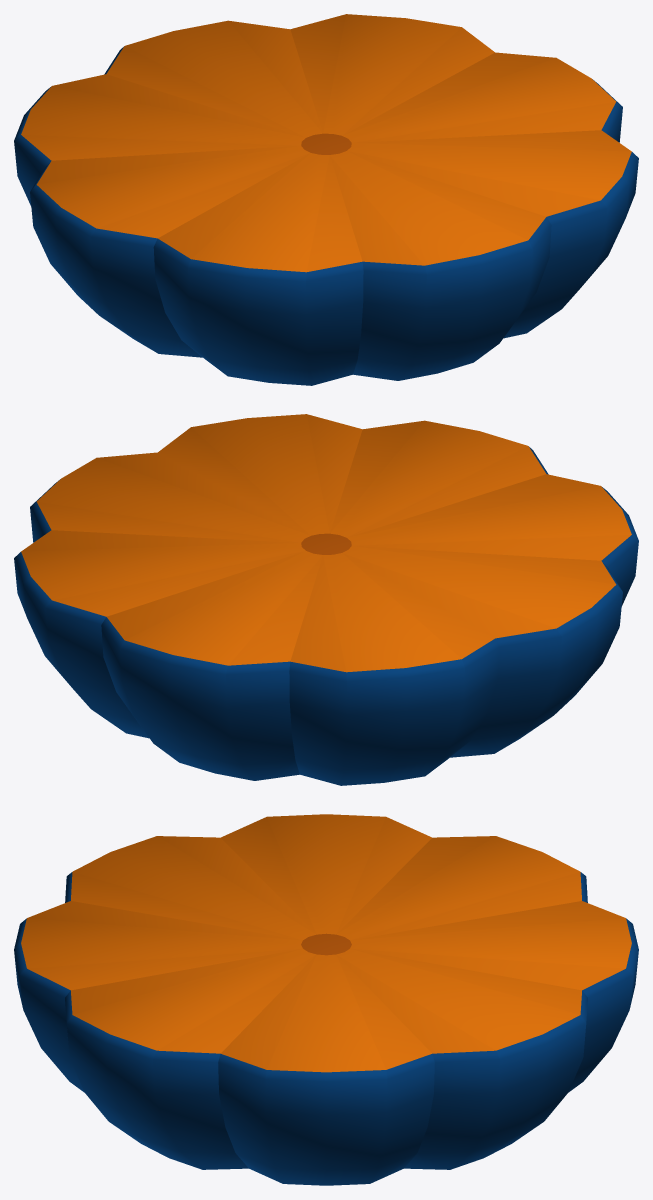
Rendered from Garlic_half_02.fbx.
3 views of the same model, one above another, from view 1: azimuth 30°, elevation 25°; view 2: azimuth 150°, elevation 25°; view 3: azimuth 270°, elevation 25° (orthographic).
Parts seen in each view (by area): view 1: Garlic_half_02; view 2: Garlic_half_02; view 3: Garlic_half_02.
Part boxes in pixels (x1,y1,x2,y2): Garlic_half_02: (14,14,638,385); Garlic_half_02: (14,414,638,785); Garlic_half_02: (14,814,638,1185).
Bounding box in the file's own units: 71.02 × 71.02 × 19.8.
